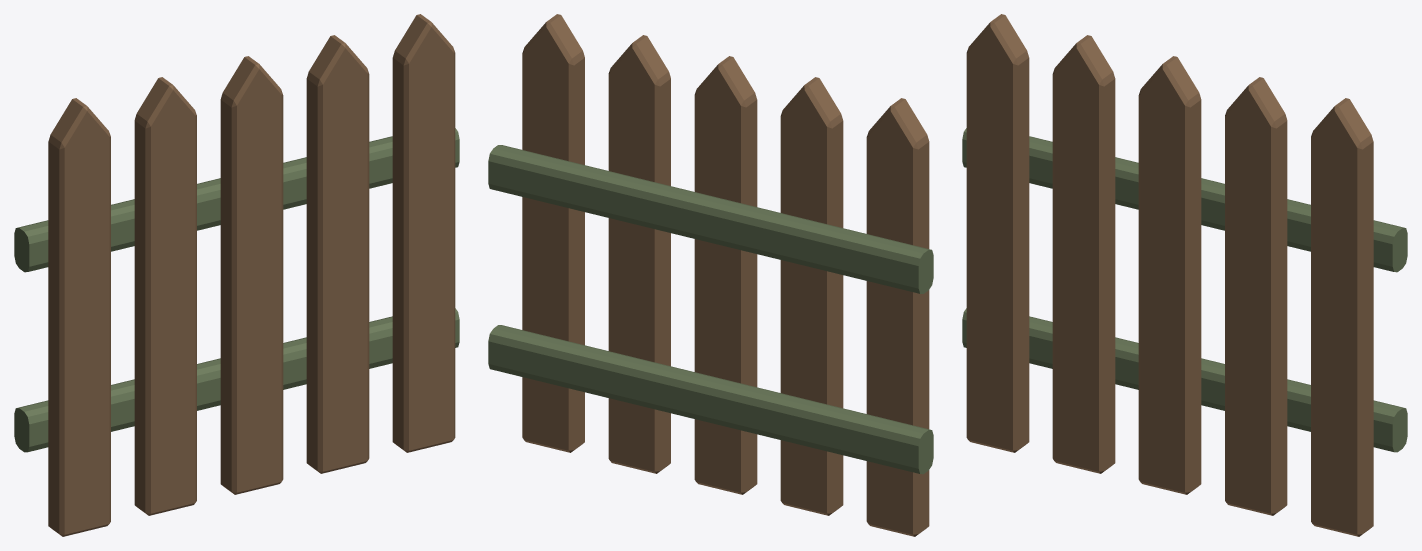
Rendered from SM_Kit_Fence_Picket.glb.
The picture shows the model from 3 angles, left to right: view 1: azimuth 30°, elevation 25°; view 2: azimuth 150°, elevation 25°; view 3: azimuth 330°, elevation 25°; orthographic projection.
Parts seen in each view (by area): view 1: SM_Kit_Fence_Picket; view 2: SM_Kit_Fence_Picket; view 3: SM_Kit_Fence_Picket.
Boxes of the visible parts, <box> form: SM_Kit_Fence_Picket: <box>14,14,459,536</box>; SM_Kit_Fence_Picket: <box>488,14,933,536</box>; SM_Kit_Fence_Picket: <box>962,14,1407,536</box>.
Size of the model in its own units: 1 by 0.9436 by 0.12.
